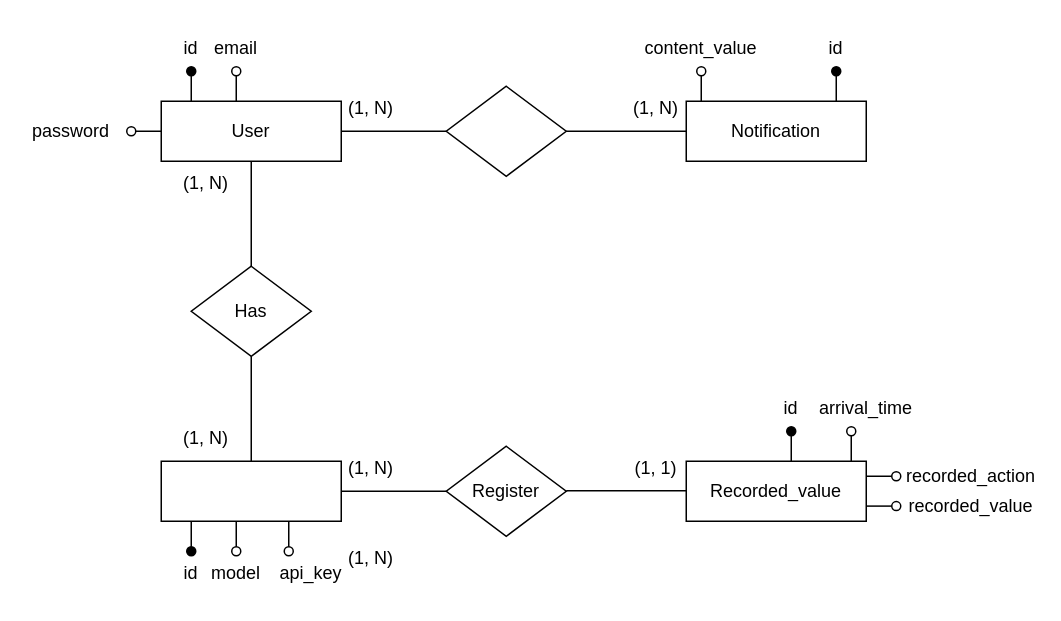
The diagram is 1061 pixels wide and 621 high, and some of its shapes have lost their labels. Each missing label, with the box of its shape:
Device: (160, 460, 341, 521)
Notifies: (445, 85, 566, 176)
